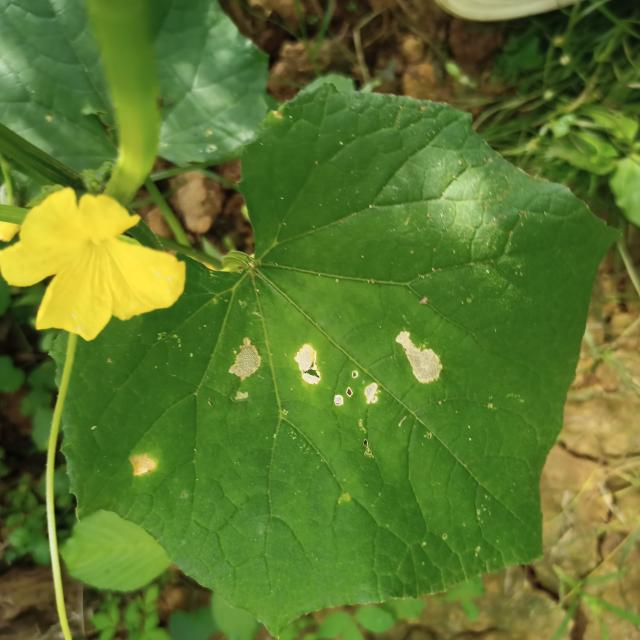disease_cucumber: (230, 332, 445, 411), (128, 451, 158, 481)
